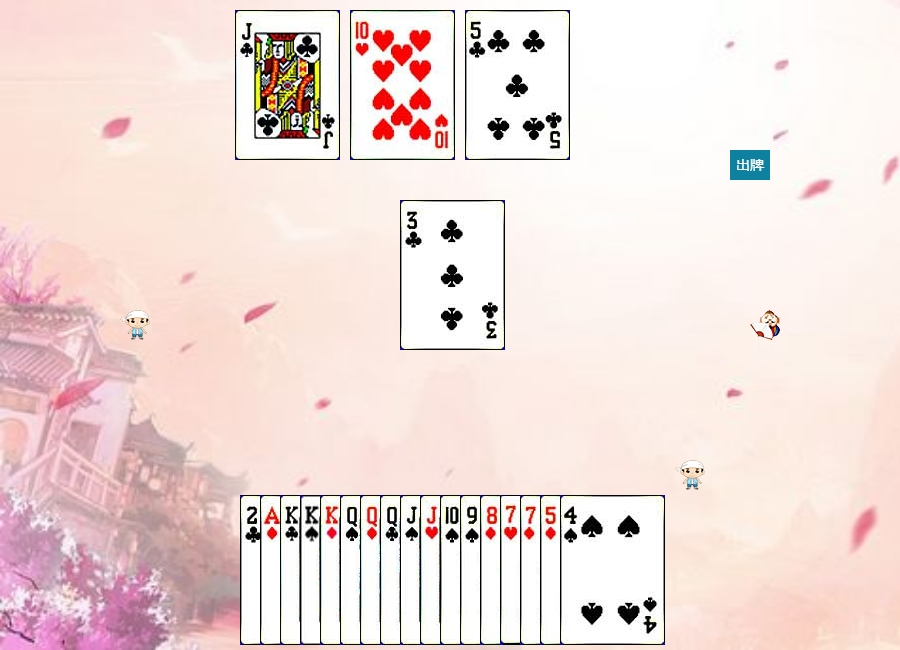10~3: (350, 10, 455, 160)
10~4: (440, 495, 545, 645)
11~2: (235, 10, 340, 160)
11~3: (420, 495, 525, 645)
11~4: (400, 495, 505, 645)
12~1: (360, 495, 465, 645)
12~2: (380, 495, 485, 645)
12~4: (340, 495, 445, 645)
13~1: (320, 495, 425, 645)
13~2: (280, 495, 385, 645)
13~4: (300, 495, 405, 645)
14~1: (260, 495, 365, 645)
15~2: (240, 495, 345, 645)
3~2: (400, 200, 505, 350)
4~4: (560, 495, 665, 645)
5~1: (540, 495, 645, 645)
5~2: (465, 10, 570, 160)
7~1: (520, 495, 625, 645)
7~3: (500, 495, 605, 645)
8~1: (480, 495, 585, 645)
9~4: (460, 495, 565, 645)
